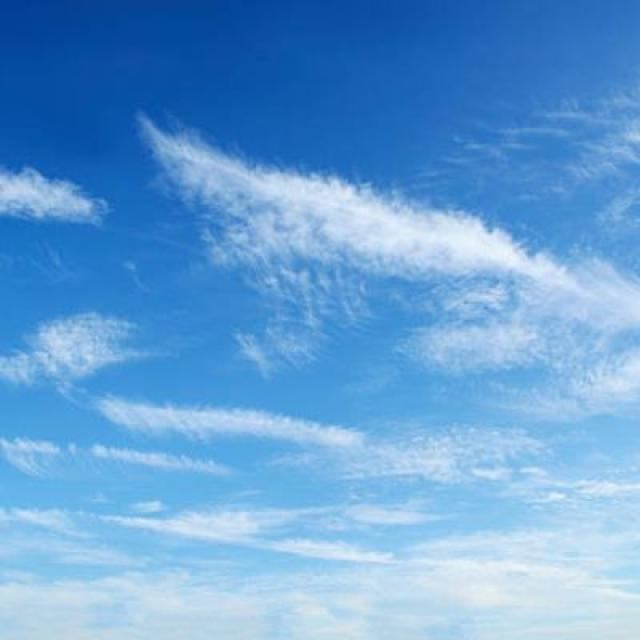Ci: (4, 73, 640, 616)
